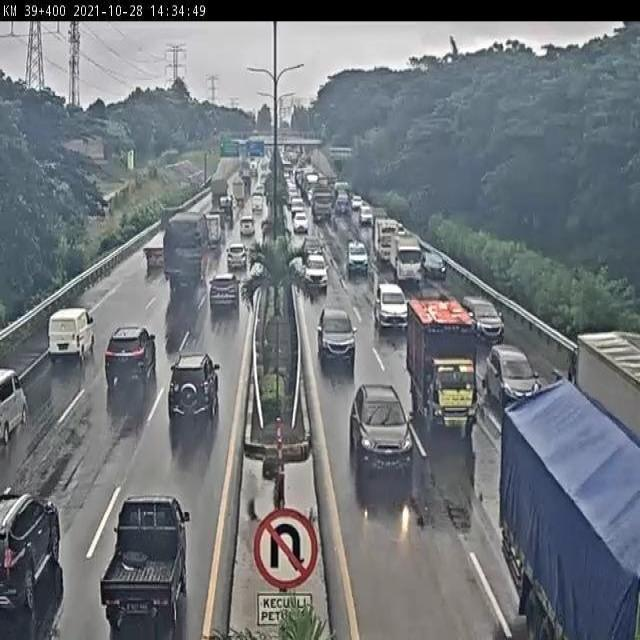Car: (0, 490, 59, 610), (350, 383, 414, 477), (168, 351, 220, 424), (486, 346, 543, 412), (105, 324, 156, 390), (316, 307, 356, 371), (460, 296, 502, 346), (373, 282, 408, 330), (208, 272, 240, 310), (304, 252, 328, 289), (347, 241, 369, 276), (422, 251, 447, 280), (226, 242, 248, 269), (304, 236, 324, 261), (239, 215, 255, 238), (292, 211, 308, 233), (359, 204, 373, 226), (289, 197, 306, 214), (351, 195, 361, 210)
Truck: (499, 377, 640, 640), (99, 494, 192, 632), (406, 298, 490, 432), (572, 328, 640, 436), (162, 211, 211, 289), (142, 206, 186, 268), (389, 232, 425, 284), (374, 218, 401, 261), (204, 212, 224, 247), (312, 188, 332, 222), (210, 178, 229, 200), (232, 178, 246, 204)
Van: (48, 308, 96, 362), (0, 368, 29, 445), (252, 193, 264, 212)
